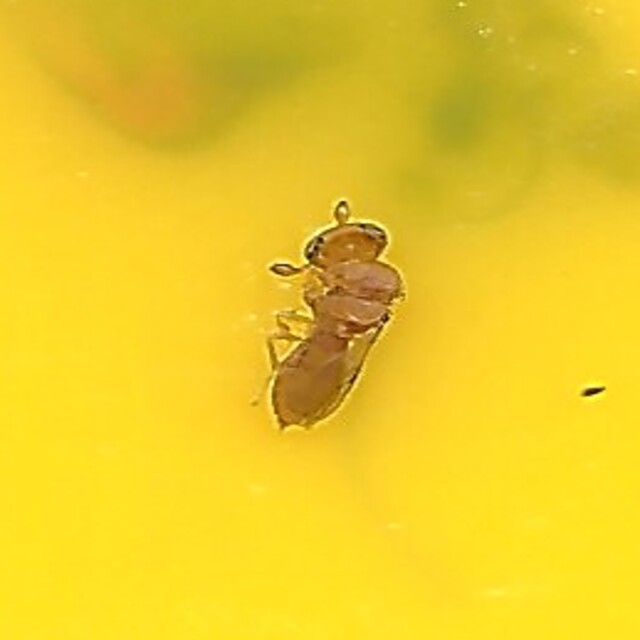Hymenoptera: (247, 203, 393, 437)
